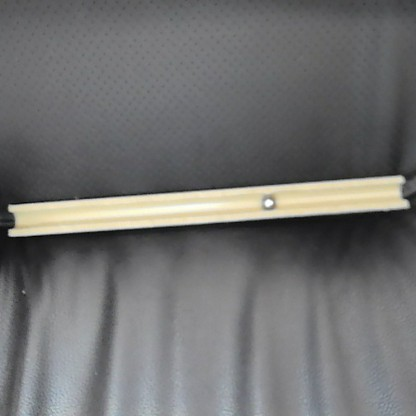ironball: (258, 190, 276, 211)
